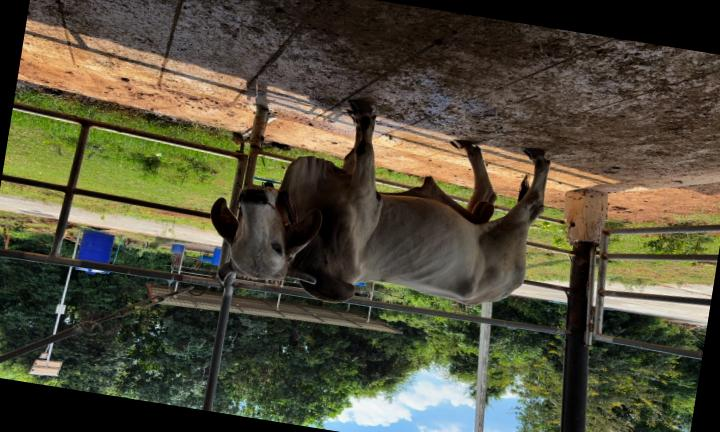Brahman: (211, 101, 550, 304)
